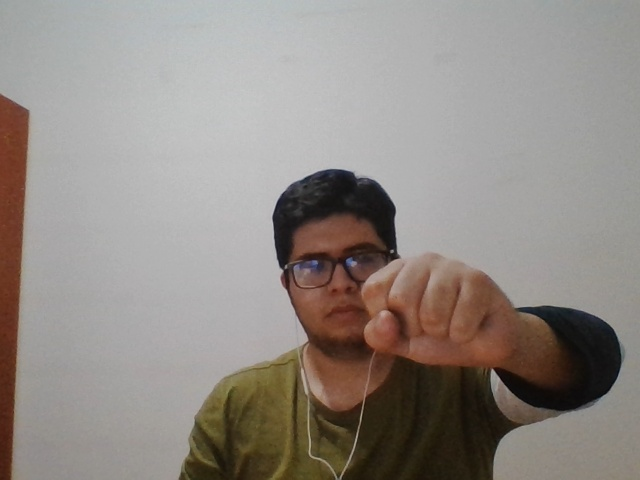Yes: (359, 240, 532, 388)
